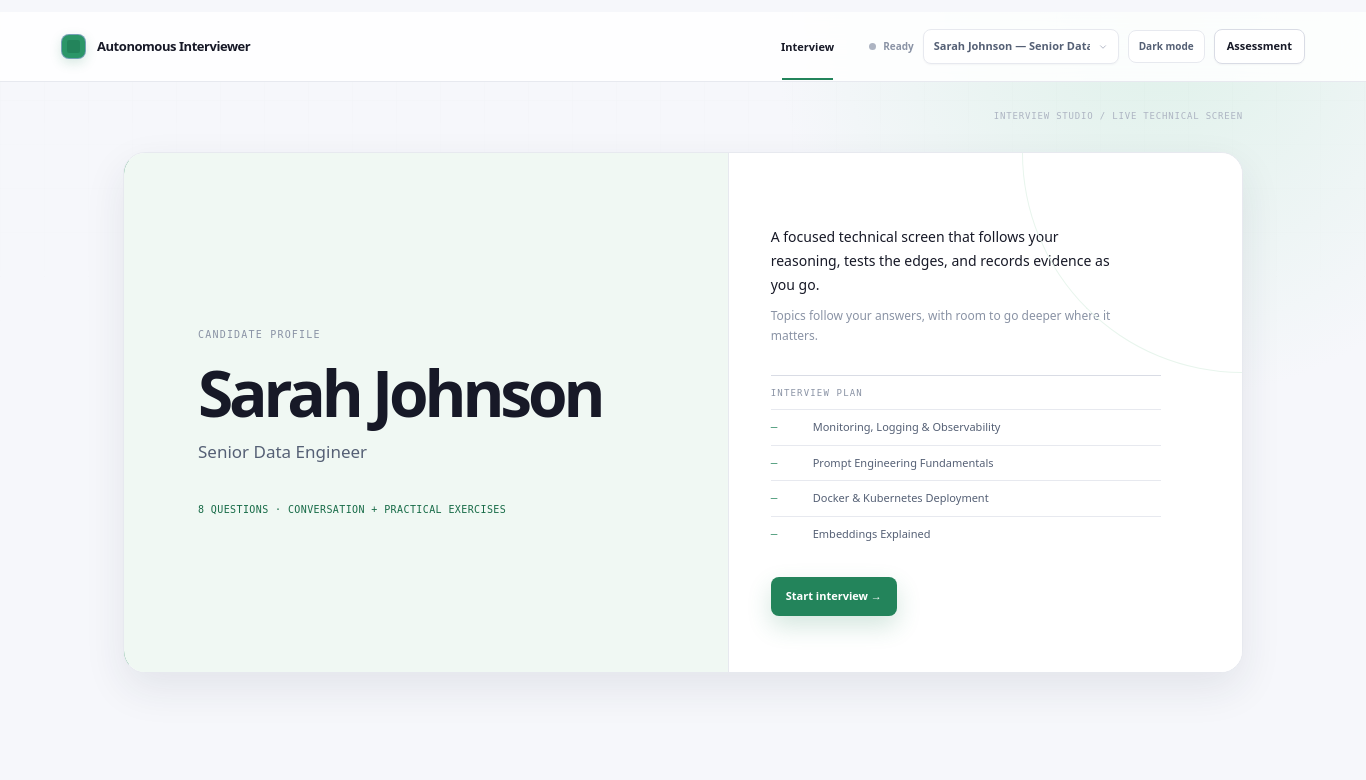
Test case: Interview page controls › starts an interview and enables submit only after text
This screenshot has width=1366, height=780.
Step 1. Click the button "Start interview →" → [834, 597], box [771,577,897,616]
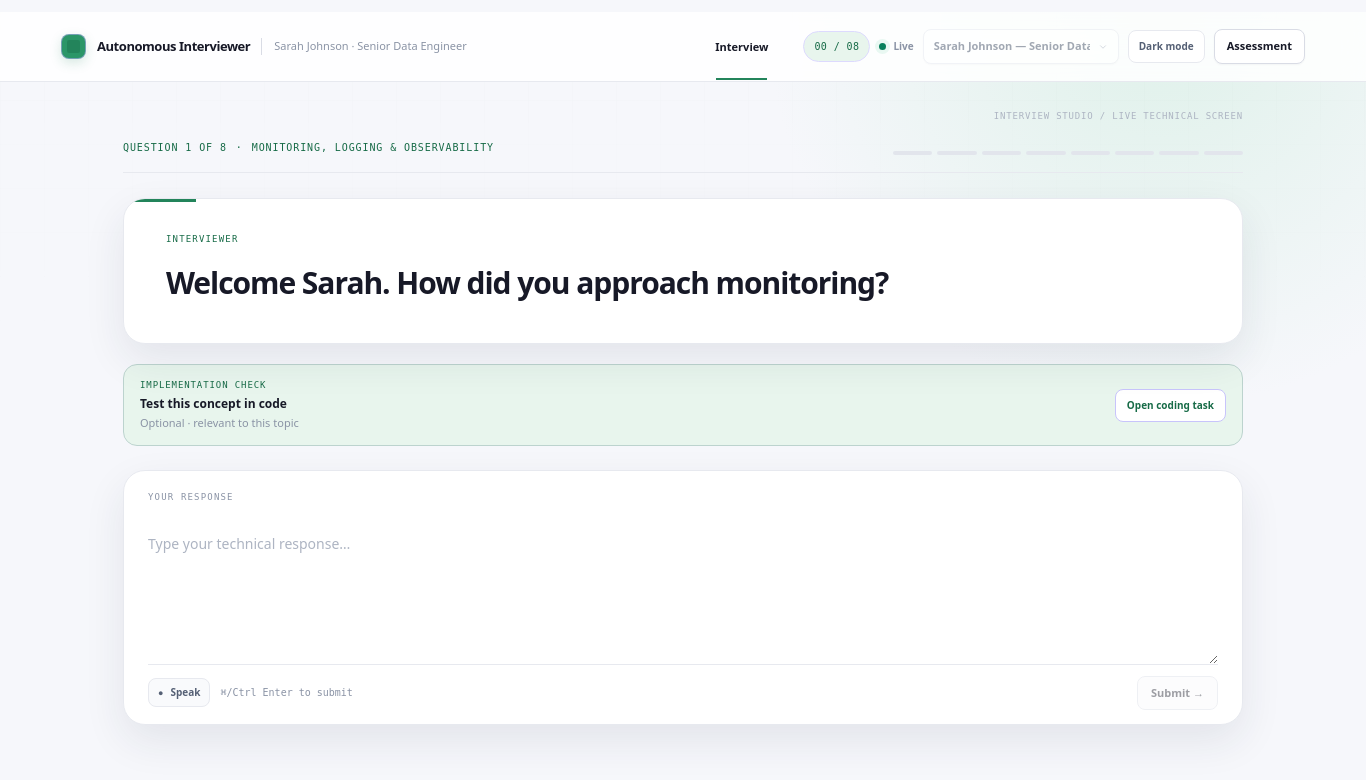
Now the text "Welcome Sarah. How did you approach monitoring?" is shown, box [166,262,946,304]
Now the button "● Speak" is shown, box [148,678,210,707]
Now the button "Submit →" is disabled, box [1137,676,1218,710]
Step 2. Type "I used Prometheus." into the text box with placeholder "Type your technical response…" → [683, 591], box [148,517,1218,665]
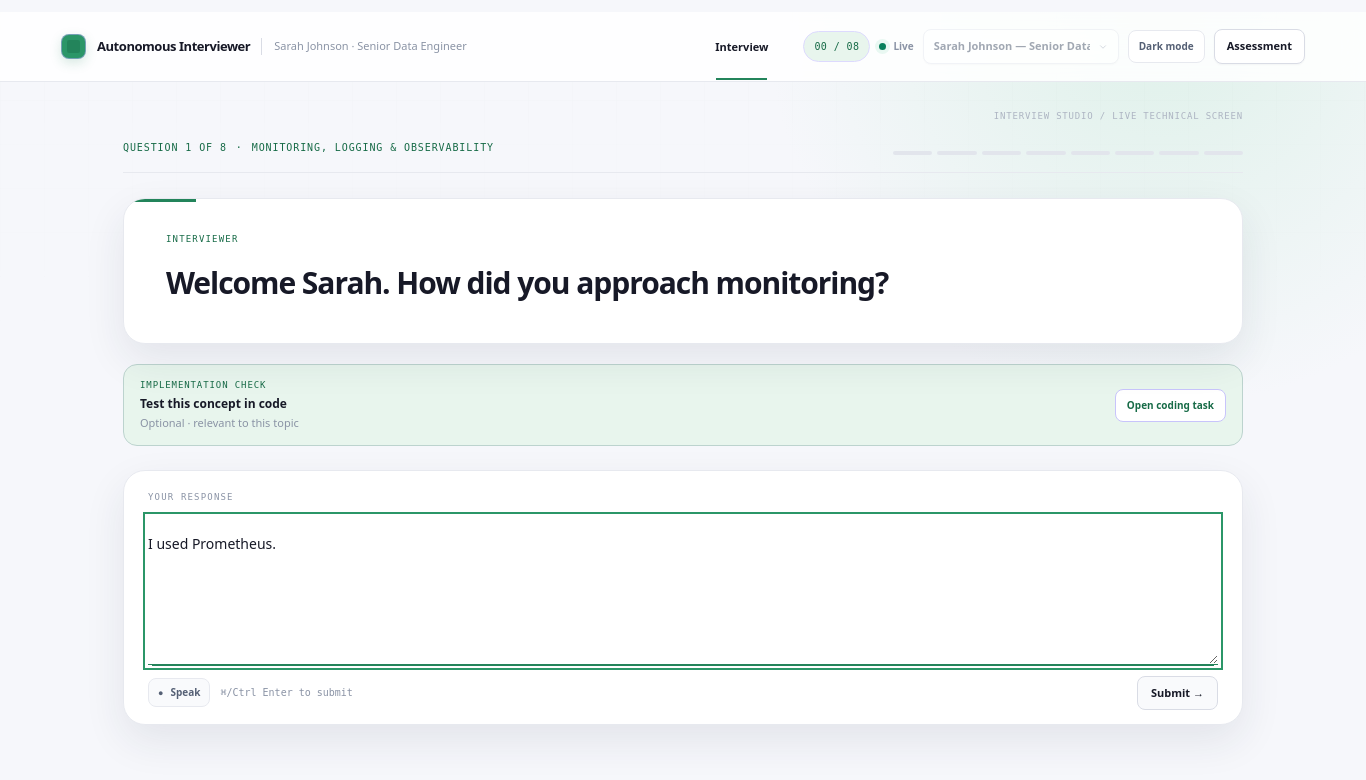
Now the button "Submit →" is enabled, box [1137,676,1218,710]
